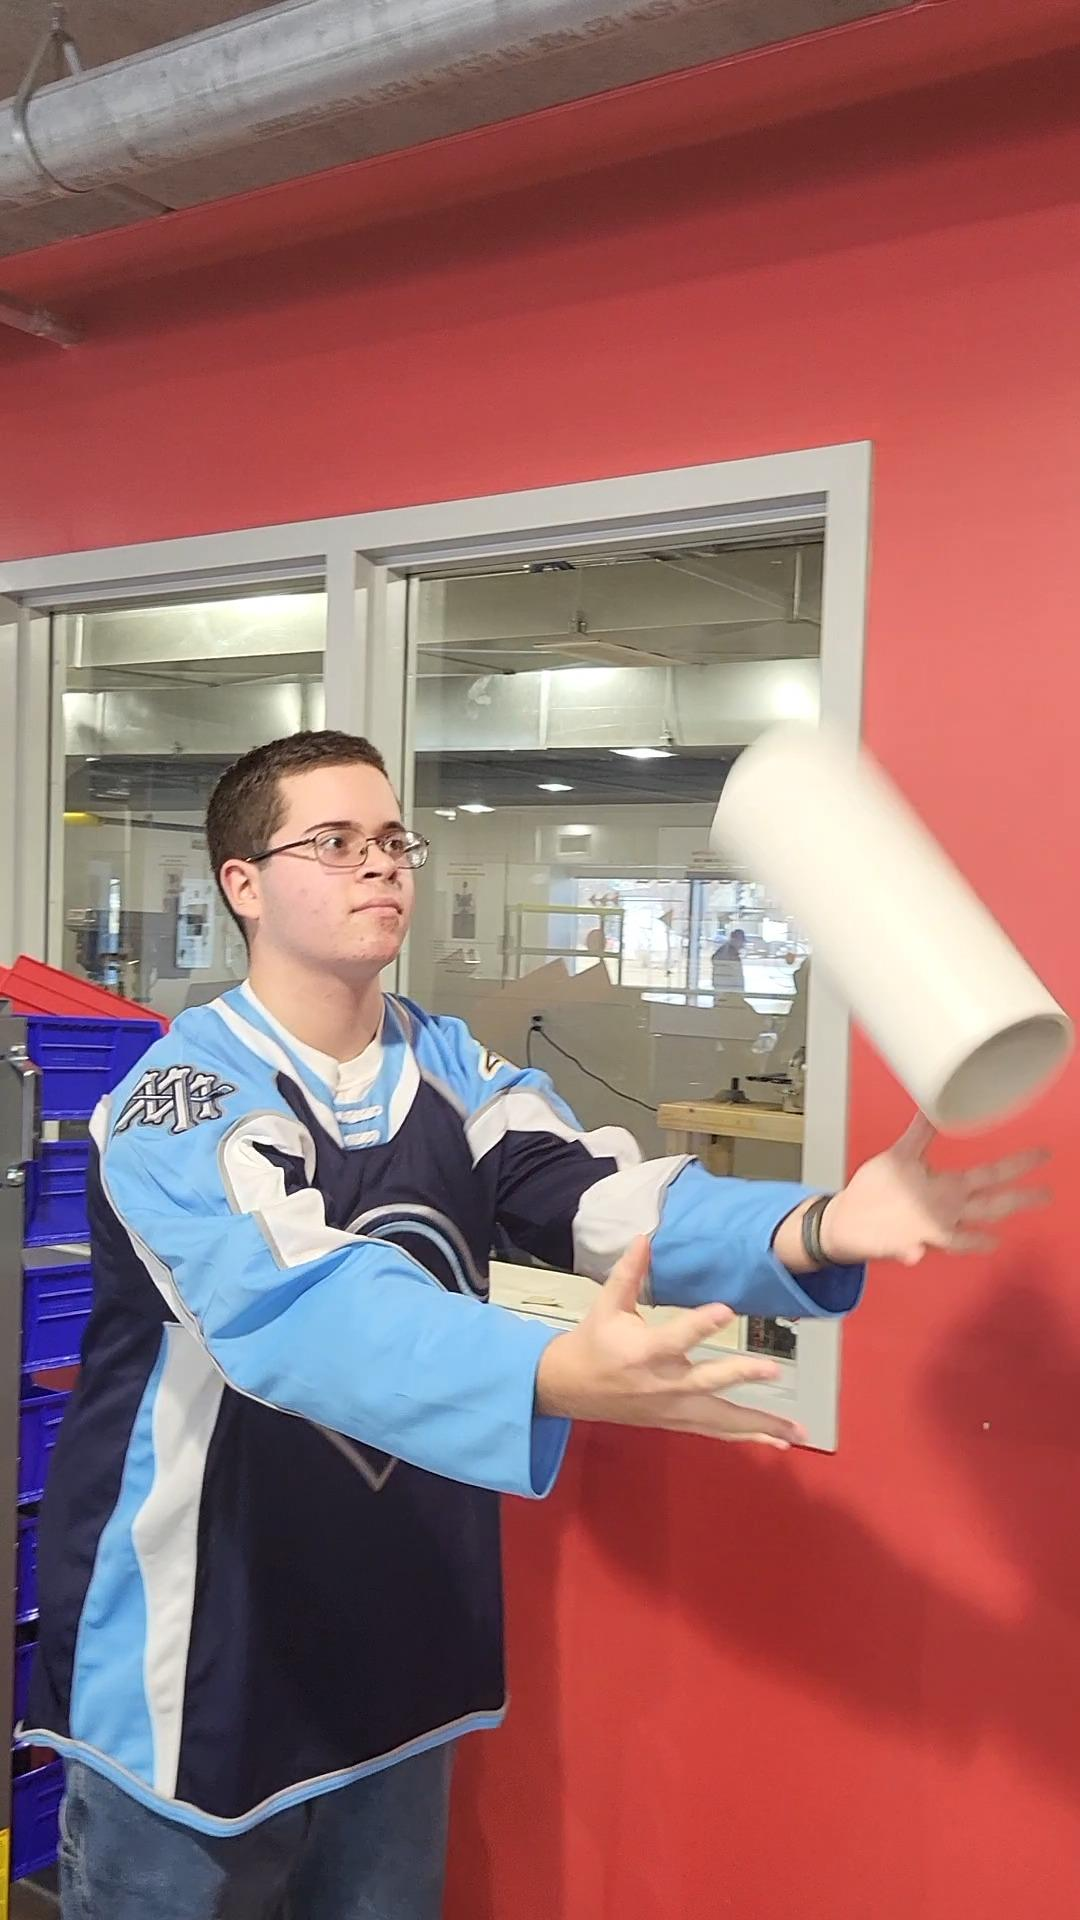coral: (713, 713, 1079, 1126)
